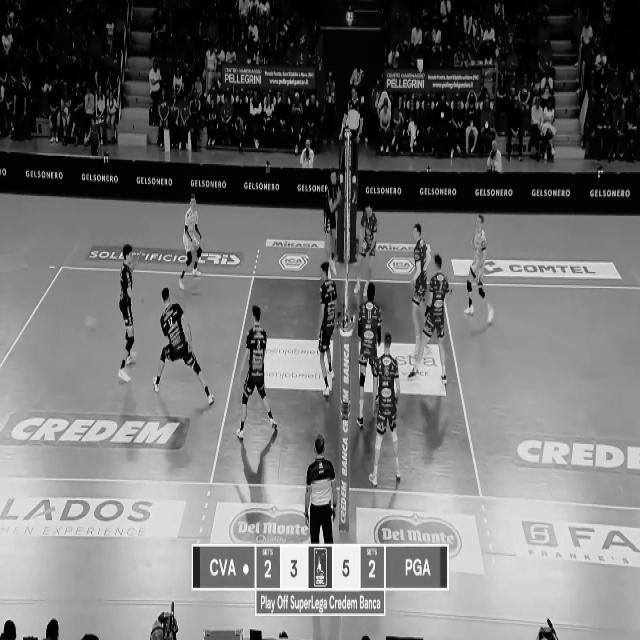volleyball court: (0, 264, 638, 507)
